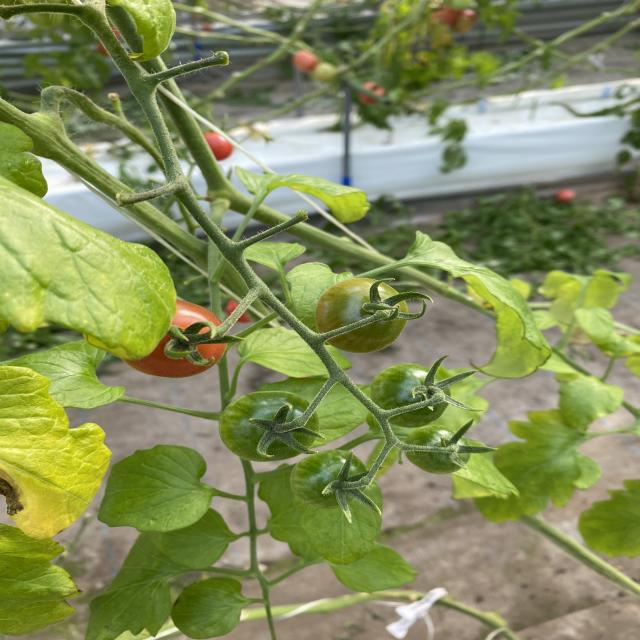c-half-riped: (314, 277, 410, 353)
c-riped: (119, 299, 228, 378)
c-unriped: (218, 390, 320, 462), (371, 363, 452, 428), (290, 449, 369, 510), (403, 423, 471, 475)
